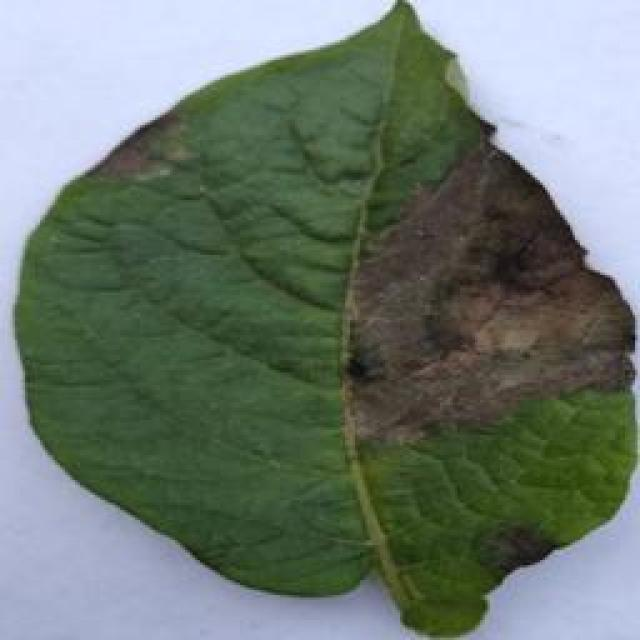Potato_Late_Blight: (4, 9, 636, 636), (2, 6, 190, 144), (481, 2, 634, 142)
